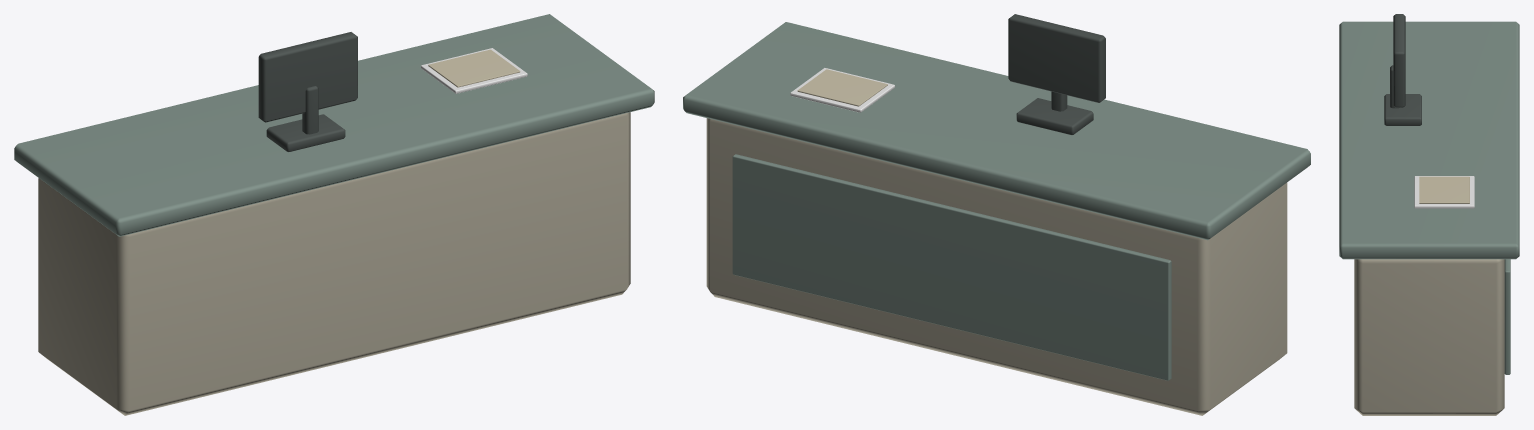
Rendered from Reception62.fbx.
The picture shows the model from 3 angles, left to right: view 1: azimuth 30°, elevation 25°; view 2: azimuth 150°, elevation 25°; view 3: azimuth 270°, elevation 25°; orthographic projection. The views are drawn at different scales.
Visible parts, largest first — view 1: Reception62; view 2: Reception62; view 3: Reception62.
Part boxes in pixels (x1,y1,x2,y2): Reception62: [14, 14, 654, 415]; Reception62: [683, 14, 1310, 415]; Reception62: [1339, 14, 1519, 415].
Size of the model in its own units: 283 by 154 by 96.
